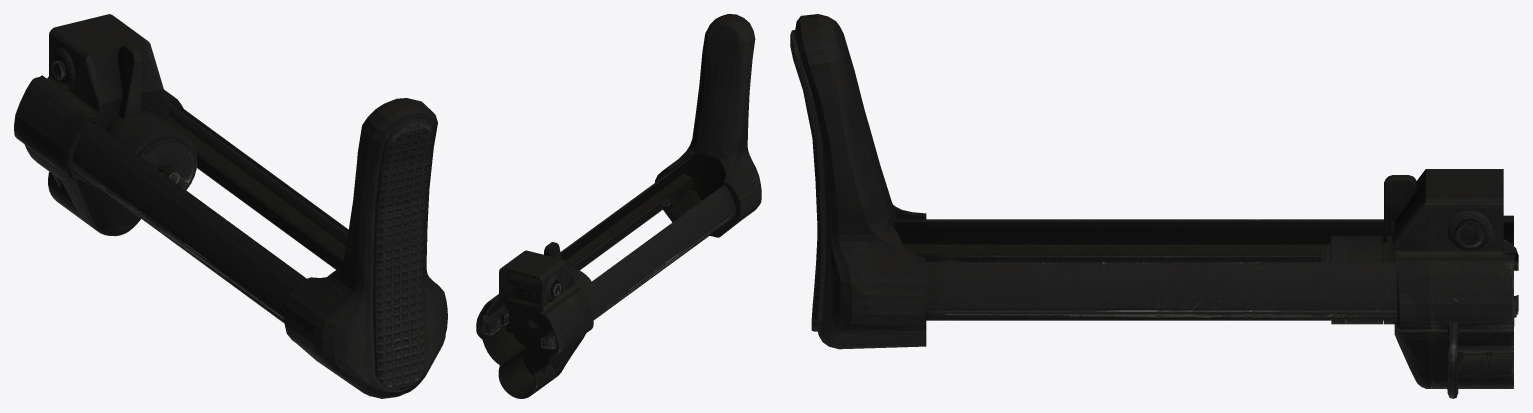
The picture shows the model from 3 angles, left to right: view 1: azimuth 30°, elevation 25°; view 2: azimuth 150°, elevation 25°; view 3: azimuth 270°, elevation 25°; orthographic projection. The views are drawn at different scales.
Parts seen in each view (by area): view 1: TW_5926d40686f7740f152b6b7e_PZ_Import; view 2: TW_5926d40686f7740f152b6b7e_PZ_Import; view 3: TW_5926d40686f7740f152b6b7e_PZ_Import.
Boxes of the visible parts, box(x1,y1,x2,y2) form: TW_5926d40686f7740f152b6b7e_PZ_Import: box(14, 14, 447, 398); TW_5926d40686f7740f152b6b7e_PZ_Import: box(476, 14, 761, 398); TW_5926d40686f7740f152b6b7e_PZ_Import: box(790, 14, 1518, 398).
Size of the model in its own units: 0.0297 by 0.1255 by 0.07.
1 material, 1 textured.
